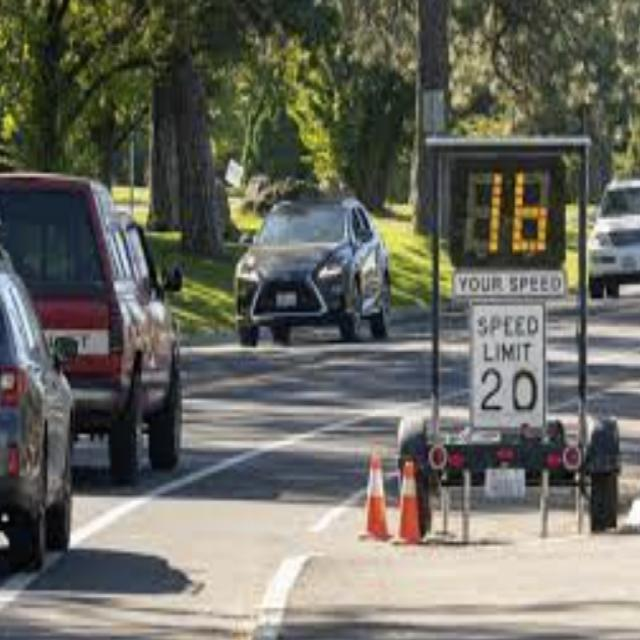speedLimit20: (471, 300, 546, 429)
